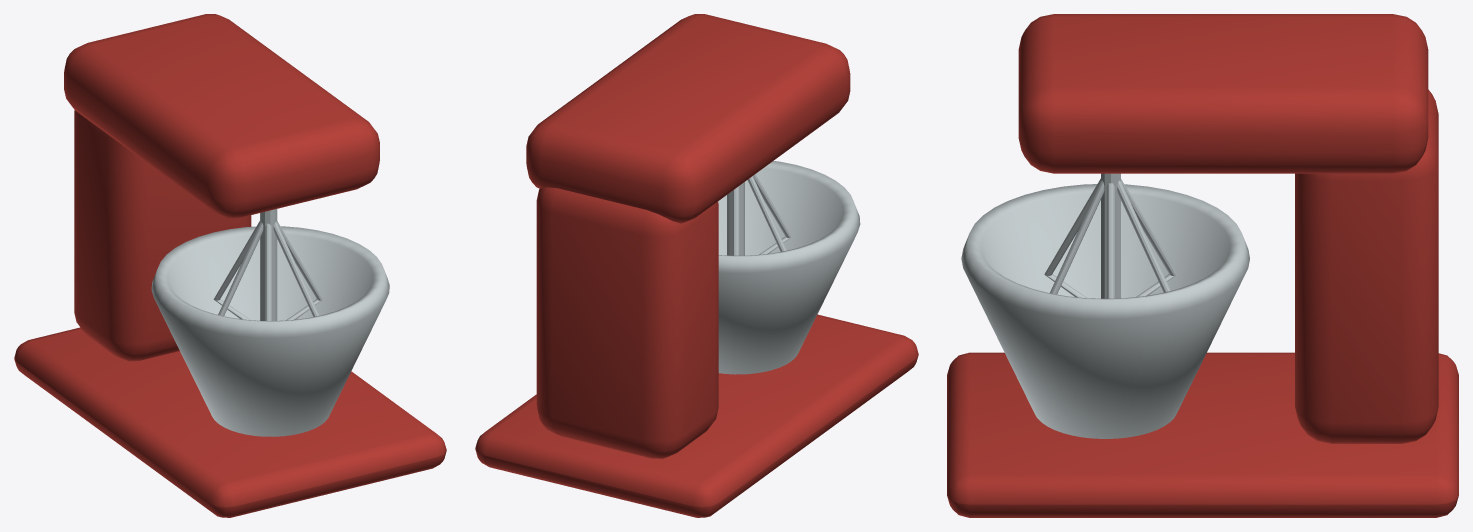
File: batidora_amasadora_base.glb
3 renders of one model, left to right at view 1: azimuth 30°, elevation 25°; view 2: azimuth 150°, elevation 25°; view 3: azimuth 270°, elevation 25°, orthographic. The views are drawn at different scales.
Parts seen in each view (by area): view 1: batidora_amasadora_base; view 2: batidora_amasadora_base; view 3: batidora_amasadora_base.
Boxes of the visible parts, left/top/right/bottom form: batidora_amasadora_base: left=14, top=14, right=446, bottom=517; batidora_amasadora_base: left=475, top=14, right=918, bottom=517; batidora_amasadora_base: left=947, top=14, right=1458, bottom=517.
Bounding box in the file's own units: 0.25 × 0.3395 × 0.39.
